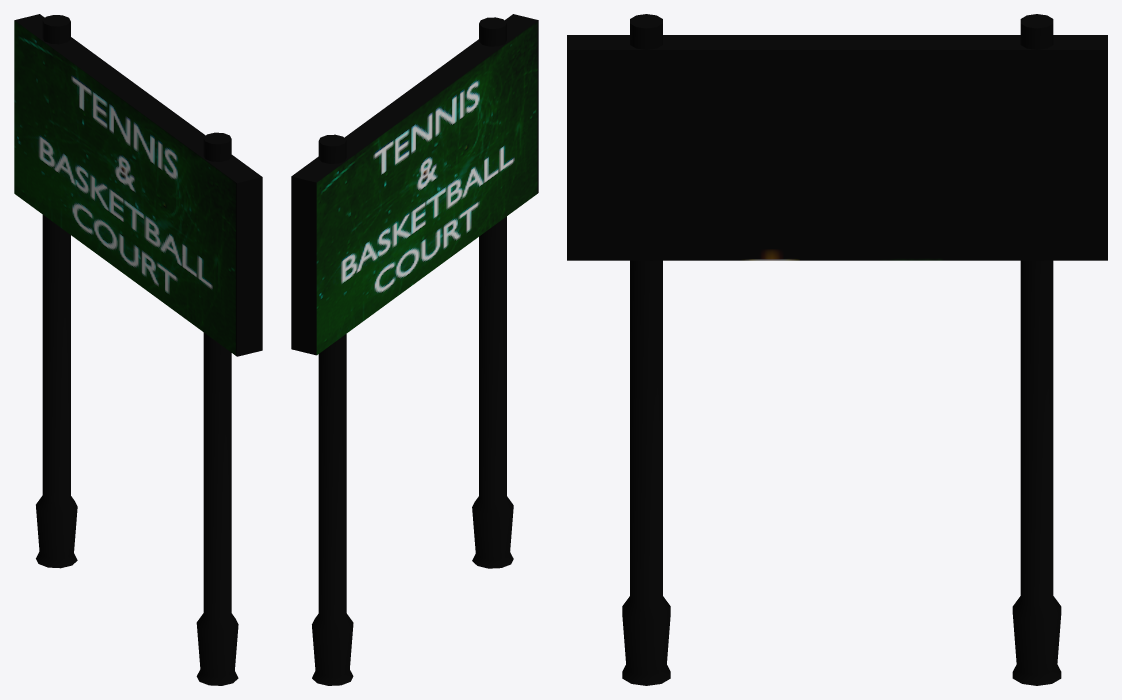
3 views of the same model, side by side, from view 1: azimuth 30°, elevation 25°; view 2: azimuth 150°, elevation 25°; view 3: azimuth 270°, elevation 25° (orthographic). The views are drawn at different scales.
Visible parts, largest first — view 1: Cylinder002; view 2: Cylinder002; view 3: Cylinder002.
Part boxes in pixels (bbox=[...]): Cylinder002: bbox=[14, 14, 262, 685]; Cylinder002: bbox=[291, 14, 538, 685]; Cylinder002: bbox=[567, 14, 1107, 685].
Bounding box in the file's own units: 1.42 × 20.01 × 15.
